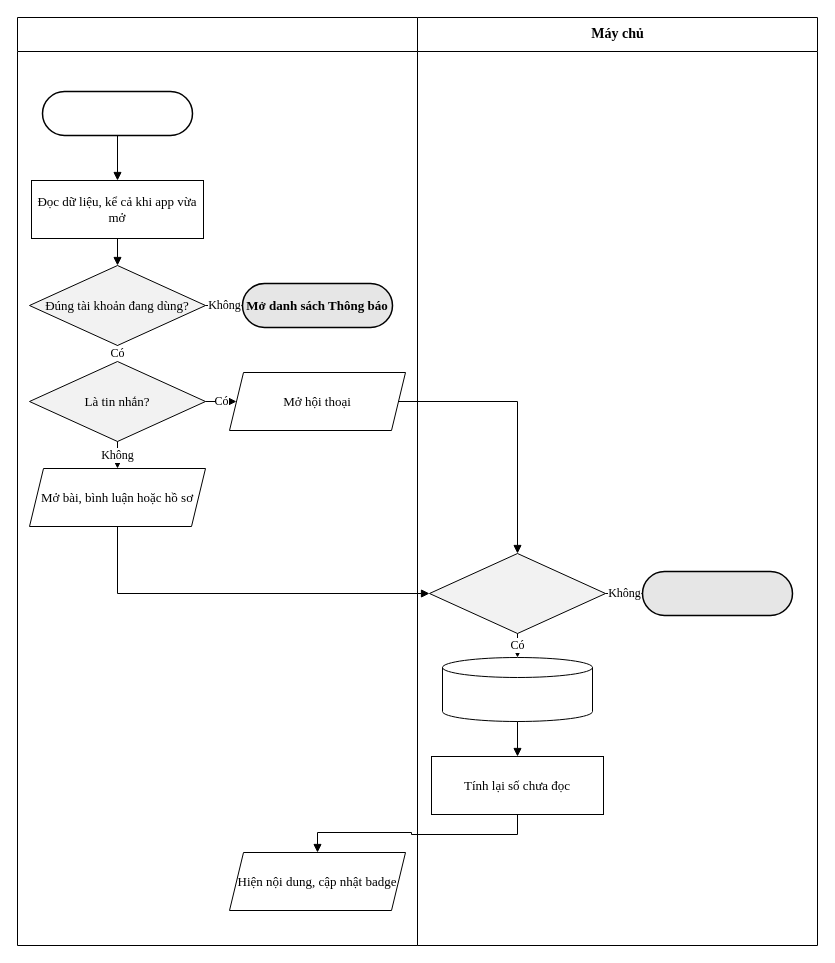
The diagram is 835 pixels wide and 963 high, and some of its shapes have lost their labels. Here are the shapes that lost their labels. From the top down, the box of each, then its label:
(41, 90, 193, 136): Người dùng bấm thông báo
(16, 16, 418, 946): Ứng dụng
(428, 552, 606, 634): Còn quyền xem?
(641, 570, 793, 616): Trả 404: nội dung không còn
(442, 656, 592, 722): Đánh dấu đã đọc
